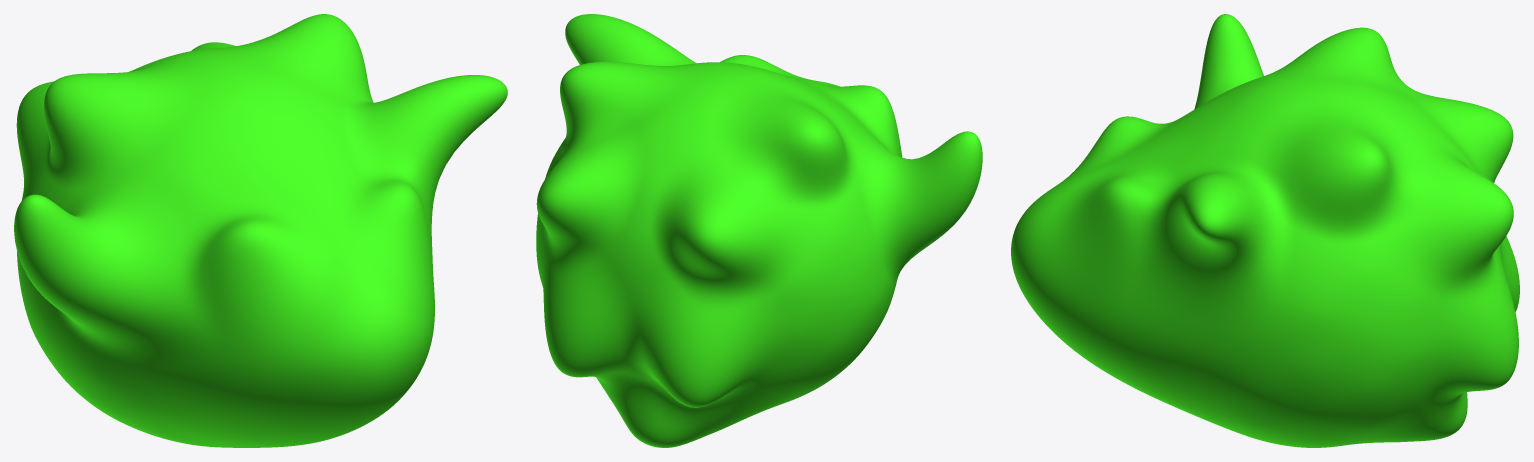
3 renders of one model, left to right at view 1: azimuth 30°, elevation 25°; view 2: azimuth 150°, elevation 25°; view 3: azimuth 270°, elevation 25°, orthographic. The views are drawn at different scales.
Visible parts, largest first — view 1: #5; view 2: #5; view 3: #5.
Part boxes in pixels (x1=…): #5: x1=14, y1=14, x2=507, y2=447; #5: x1=536, y1=14, x2=982, y2=447; #5: x1=1011, y1=14, x2=1519, y2=447.
Bounding box in the file's own units: 0.2569 × 0.1885 × 0.2511.
